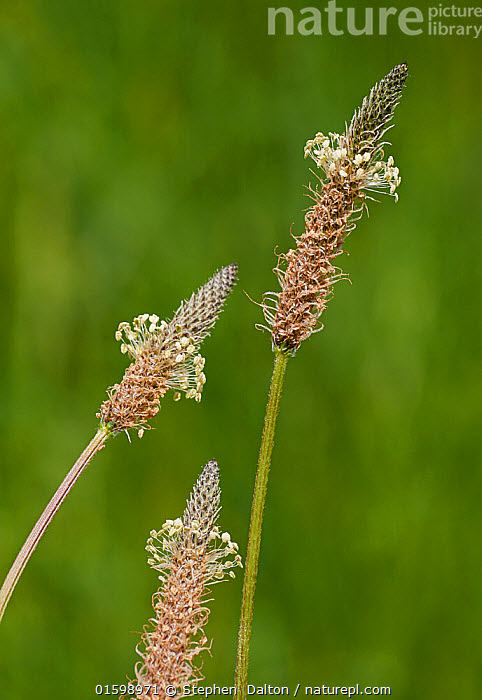buckhorn plantain: (26, 224, 238, 667), (257, 51, 427, 452), (134, 449, 234, 700)
